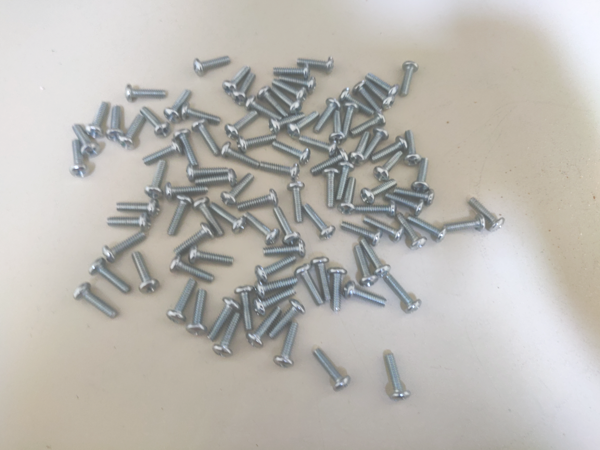shortscrew: (74, 284, 118, 320), (385, 274, 423, 315), (314, 349, 351, 391), (246, 307, 283, 349), (88, 259, 131, 295), (208, 297, 241, 342), (269, 300, 304, 341), (103, 231, 147, 262), (214, 313, 243, 359), (167, 280, 196, 325), (174, 224, 216, 255), (468, 198, 505, 233), (242, 213, 280, 246), (131, 251, 159, 295), (384, 353, 410, 400), (274, 321, 299, 369), (295, 265, 324, 306), (210, 202, 247, 234), (194, 198, 224, 237), (304, 204, 336, 240), (170, 255, 214, 281), (255, 256, 297, 283), (397, 213, 427, 250), (361, 240, 391, 277), (406, 215, 447, 242), (254, 289, 296, 315), (310, 149, 350, 176), (343, 282, 387, 306), (356, 246, 381, 288), (139, 107, 171, 139), (255, 276, 299, 299), (340, 88, 376, 116), (168, 195, 192, 237), (341, 222, 383, 246), (221, 142, 259, 168), (145, 139, 184, 164), (237, 189, 279, 212), (361, 179, 398, 205), (353, 83, 383, 115), (107, 213, 152, 234), (315, 98, 341, 134), (258, 87, 288, 118), (363, 80, 395, 109), (374, 150, 403, 182), (271, 86, 303, 115), (350, 112, 387, 137), (164, 90, 192, 123), (225, 111, 258, 139), (328, 267, 348, 313), (186, 290, 206, 336), (271, 141, 311, 164), (364, 218, 404, 241), (119, 115, 146, 149), (174, 129, 199, 165), (73, 124, 100, 157), (372, 137, 409, 161), (86, 102, 110, 139), (189, 245, 233, 265), (312, 258, 332, 302), (299, 136, 339, 158), (444, 214, 486, 234), (393, 187, 435, 207), (181, 103, 221, 124), (145, 160, 167, 198), (231, 73, 257, 105), (195, 169, 238, 188), (264, 240, 307, 259), (235, 285, 252, 333), (223, 66, 251, 95), (260, 161, 300, 181), (364, 128, 389, 160), (237, 134, 278, 153), (187, 165, 230, 183), (125, 84, 167, 102), (166, 183, 208, 201), (366, 75, 400, 97), (273, 80, 307, 102), (400, 61, 420, 98), (194, 56, 231, 76), (118, 199, 161, 216), (288, 181, 305, 224), (323, 167, 340, 209), (338, 178, 357, 215), (71, 140, 89, 178), (411, 158, 430, 193), (403, 130, 421, 166), (278, 76, 316, 93), (350, 133, 370, 165), (107, 105, 124, 142), (297, 58, 334, 73), (274, 65, 310, 79)
